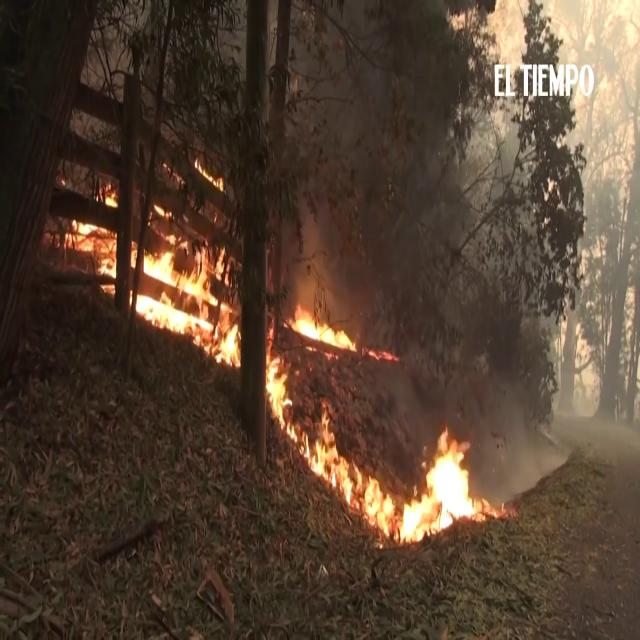fire: (294, 409, 505, 546), (133, 207, 241, 371), (65, 167, 120, 299), (287, 301, 400, 365), (265, 335, 287, 439)
